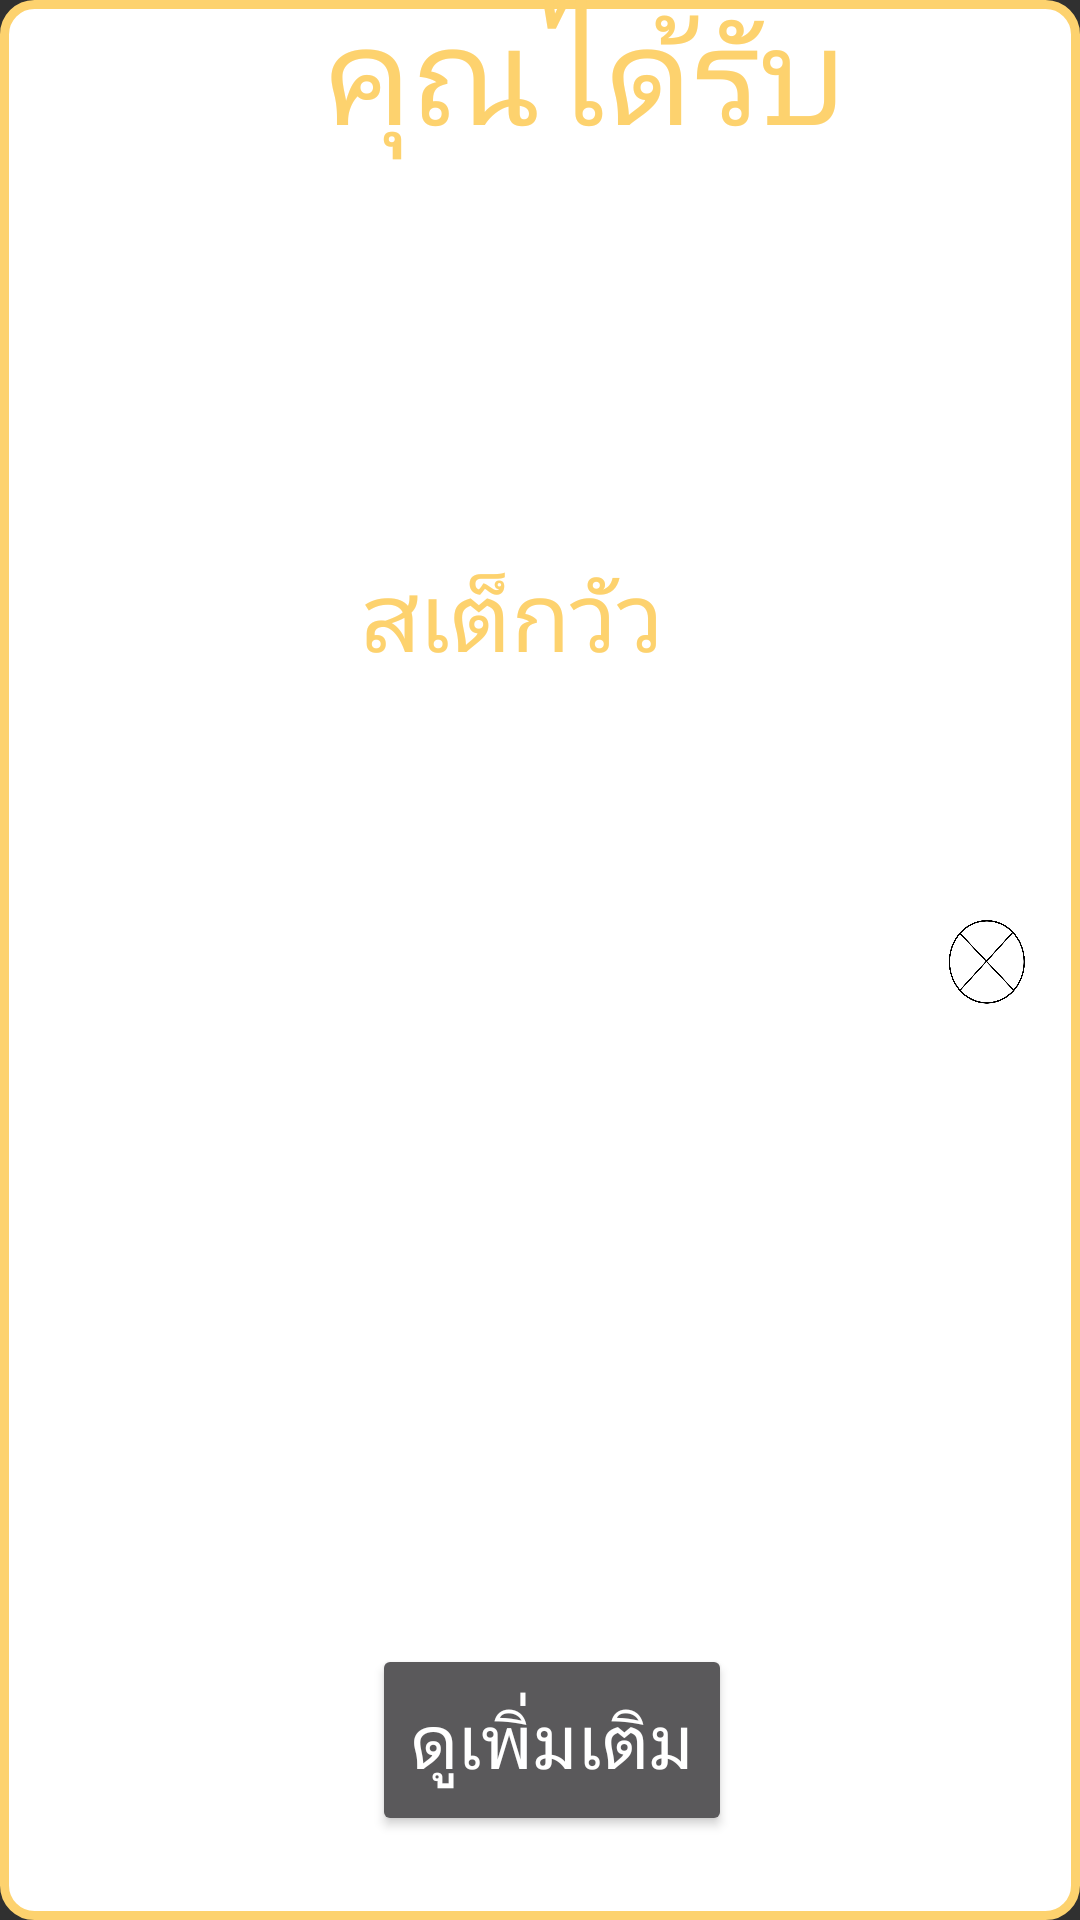

Icons on this 1080*1920 Android screen, each with its box as (x1, y1, x2, y2):
xbutton: (949, 920, 1025, 1004)
